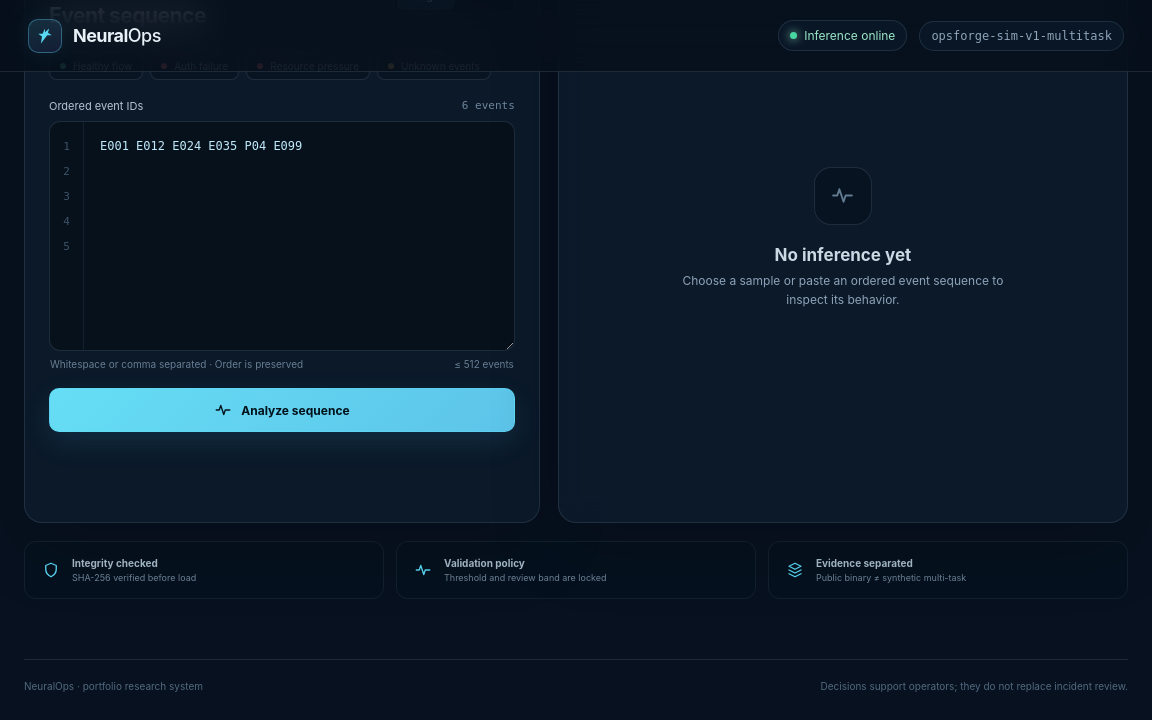
Test case: NeuralOps console › renders a structured validation error with request context
(page scrolled)
Step 1. Click the button "Analyze sequence" → (282, 410), box top-left (49, 388), bottom-right (515, 432)
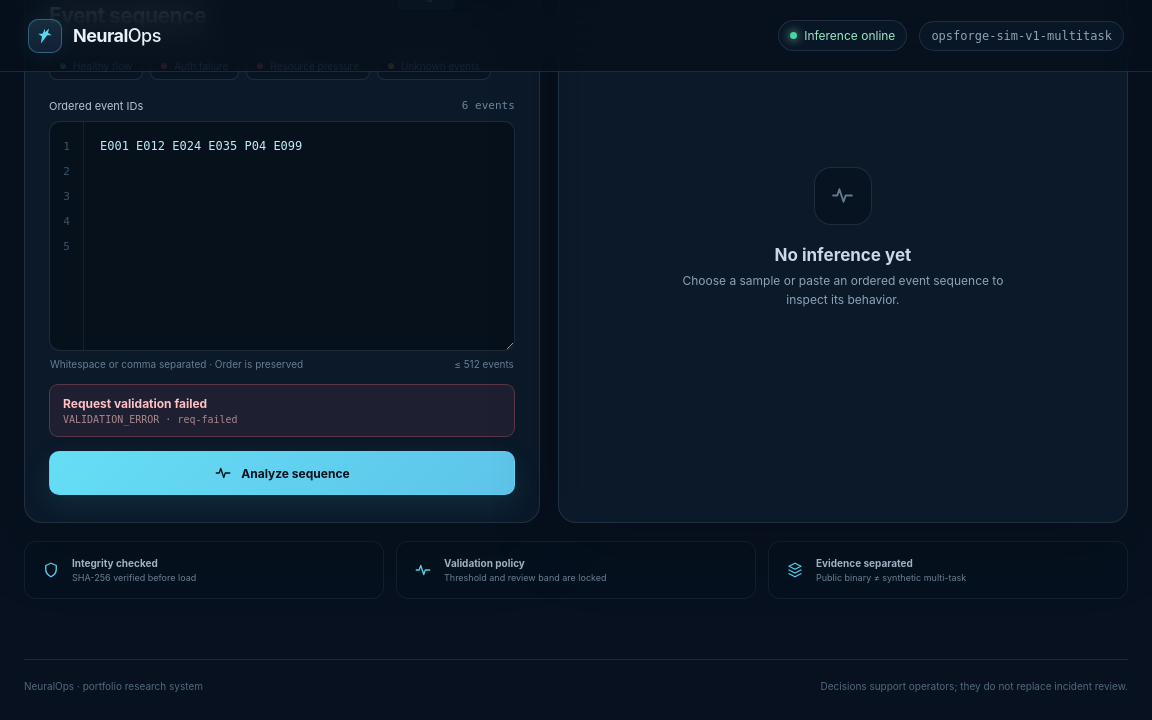
Now the message shows "Request validation failed", box top-left (63, 396), bottom-right (207, 411)
Now the message shows "VALIDATION_ERROR · req-failed", box top-left (63, 414), bottom-right (238, 425)
